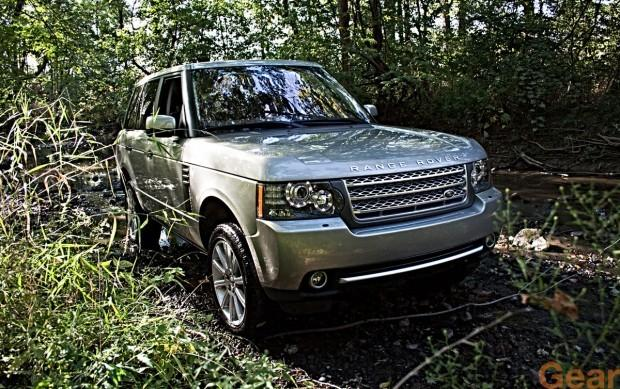range rover: (340, 148, 466, 177)
